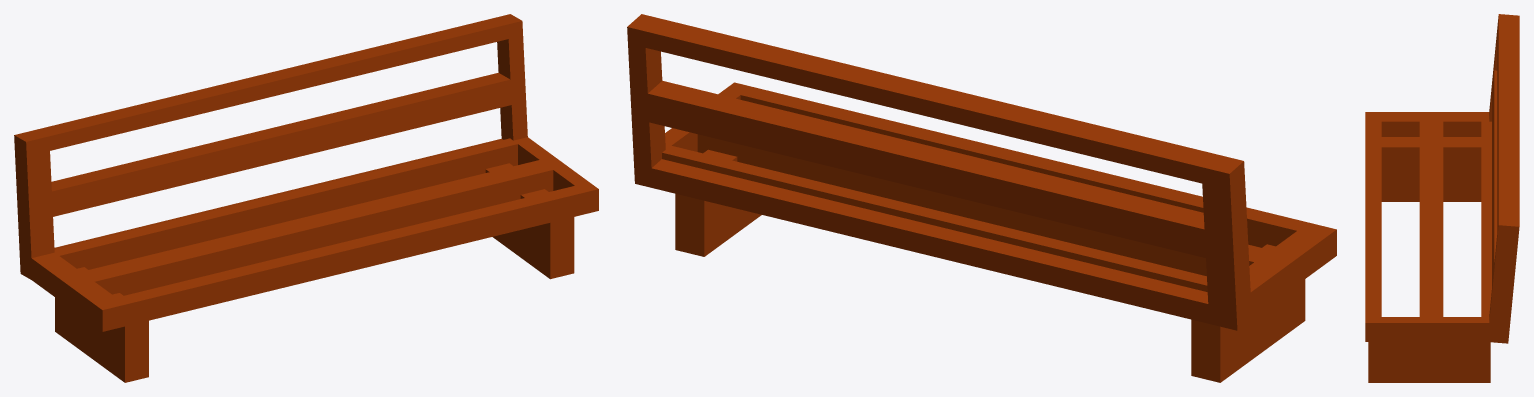
Rendered from Bench.FBX.
3 renders of one model, left to right at view 1: azimuth 30°, elevation 25°; view 2: azimuth 150°, elevation 25°; view 3: azimuth 270°, elevation 25°, orthographic. The views are drawn at different scales.
Parts seen in each view (by area): view 1: Box105; view 2: Box105; view 3: Box105.
Part boxes in pixels (x1,y1,x2,y2): Box105: (14,14,598,382); Box105: (627,14,1336,382); Box105: (1365,14,1519,382).
Bounding box in the file's own units: 2338 × 865 × 721.
